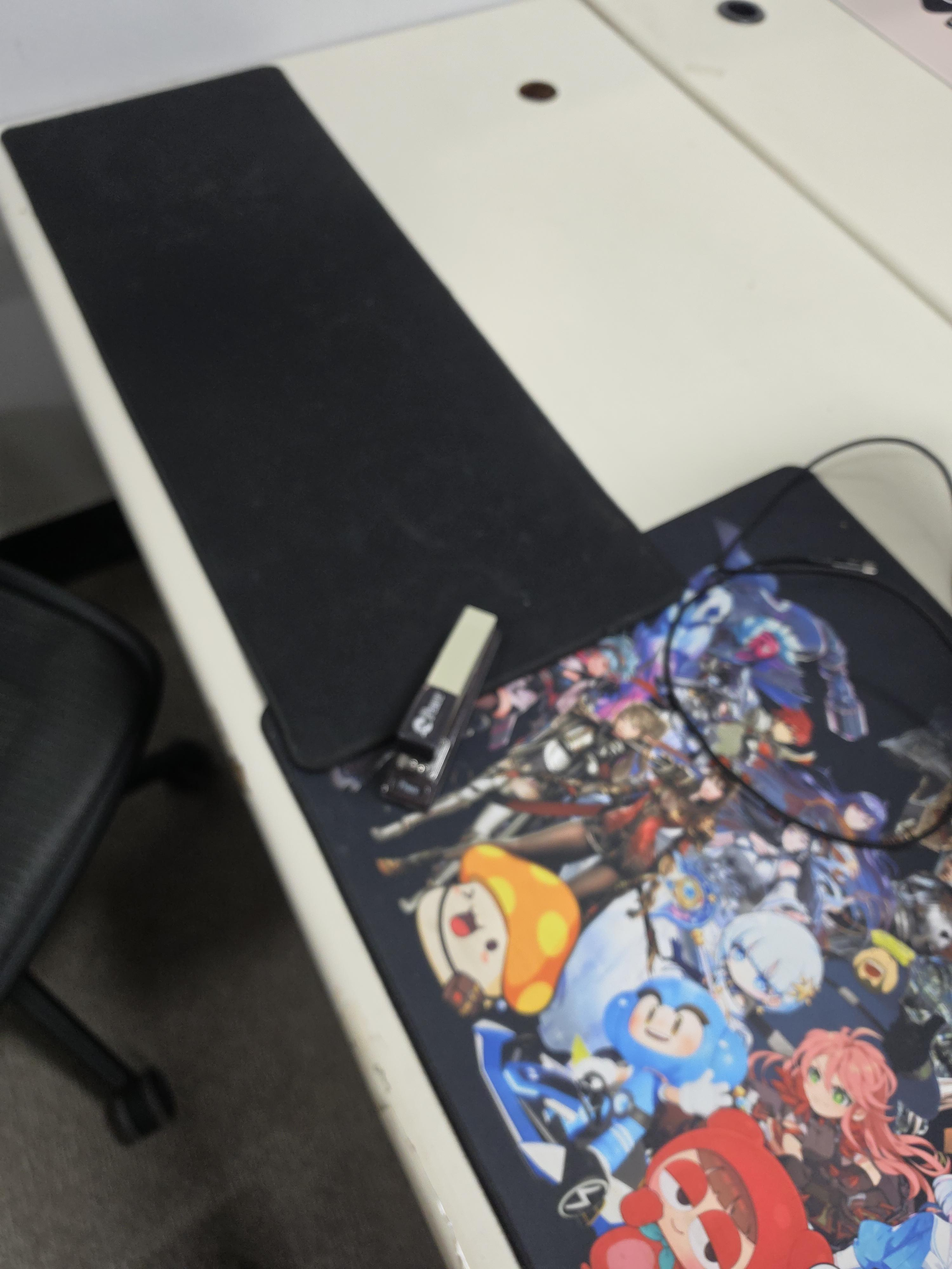stapler: (378, 604, 501, 812)
